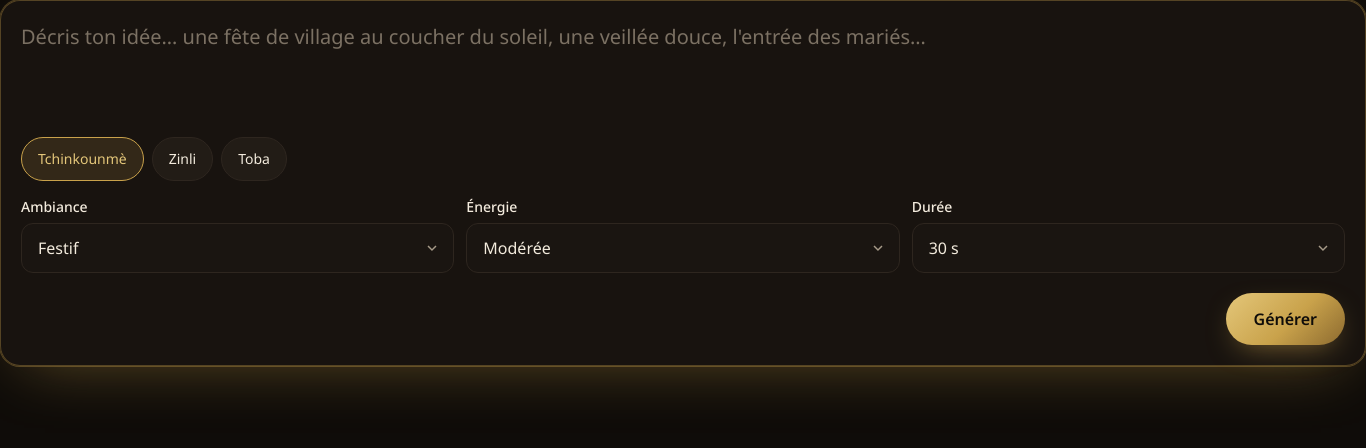
Test case: CreationBox — signed in › shows a connection message on a network failure and reuses the submission id on retry
Replace the text in the text box labelled "Décris ton idée" with "une fête" at (683, 70), box [21,21,1345,118]
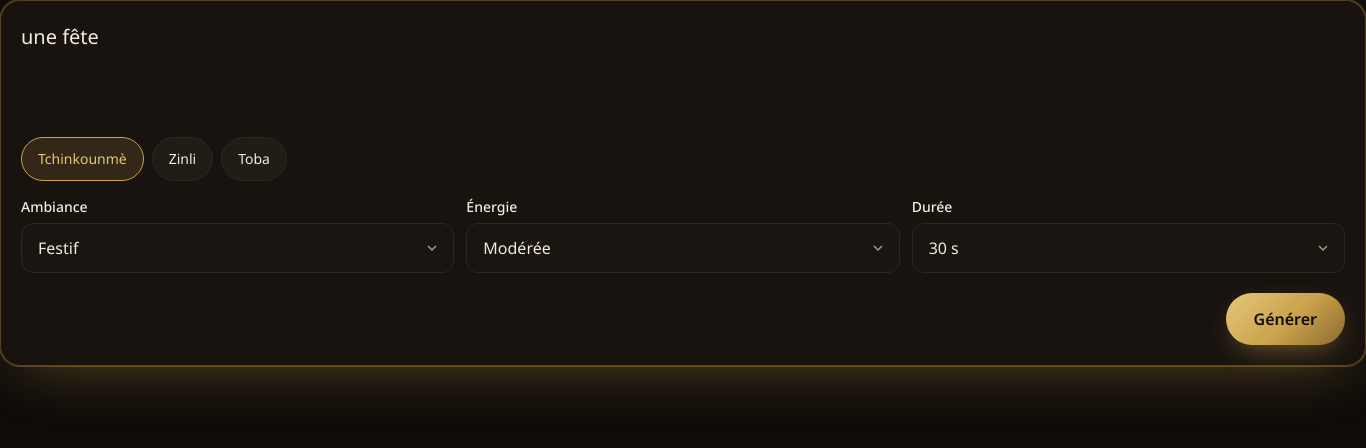
Click the button "Générer" at (1285, 318), box [1226,292,1345,344]
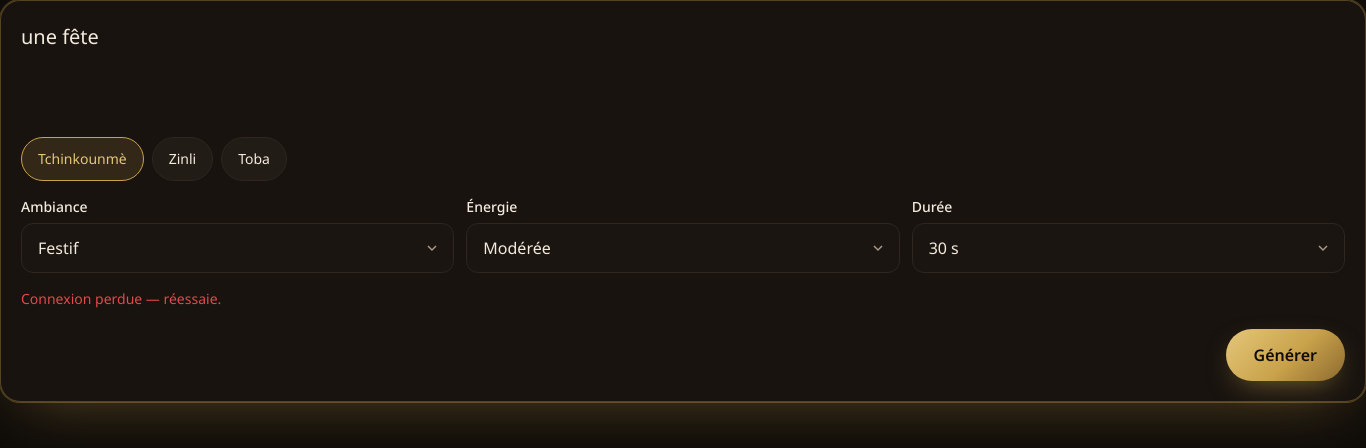
Expected: the message reads "Connexion perdue — réessaie.", [21,288,221,308]
Click the button "Générer" at (1285, 354), box [1226,328,1345,380]
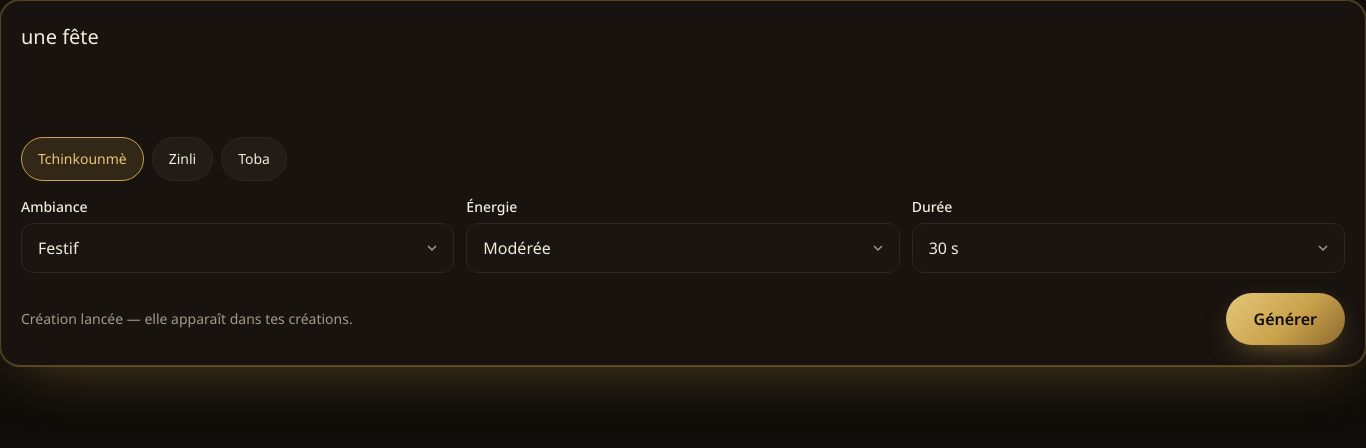
Expected: the button "Générer" is enabled, [1226,292,1345,344]
Expected: the message "Connexion perdue — réessaie." is gone
